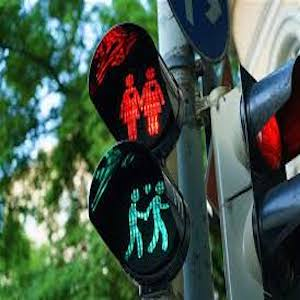green: (116, 180, 182, 252)
red: (110, 63, 172, 135)
